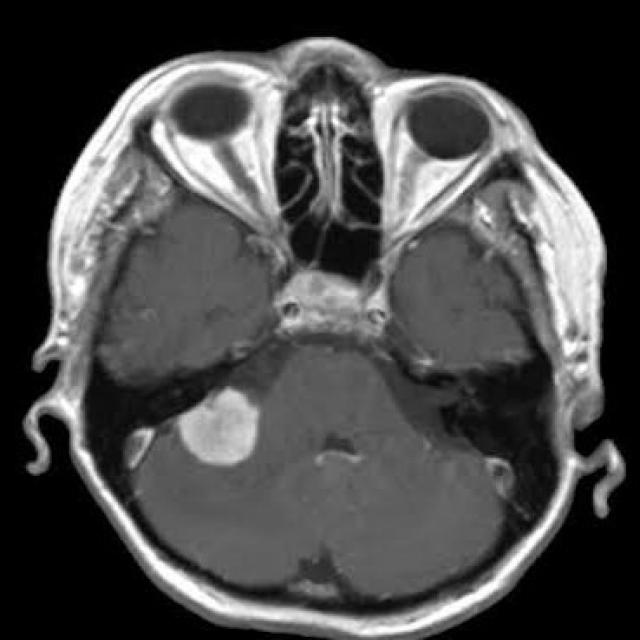brain_tumor: (177, 386, 260, 466)
